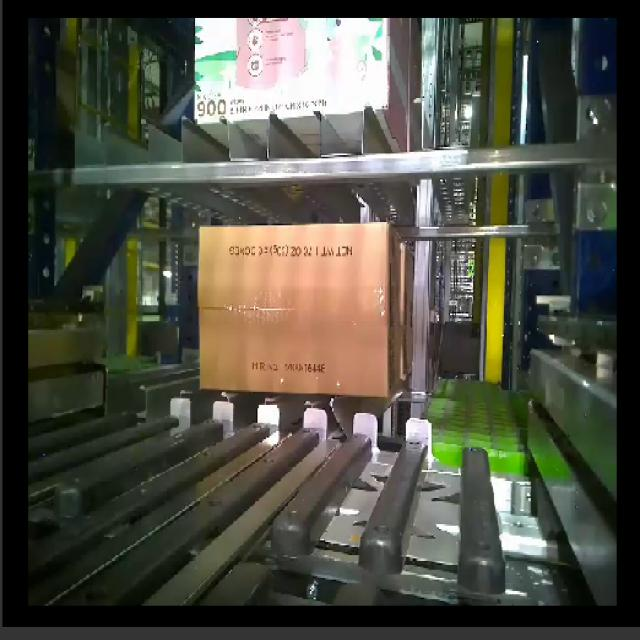box: (198, 220, 391, 398)
